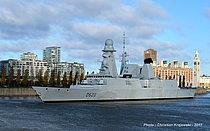MIL_Ship: (32, 39, 195, 102)
